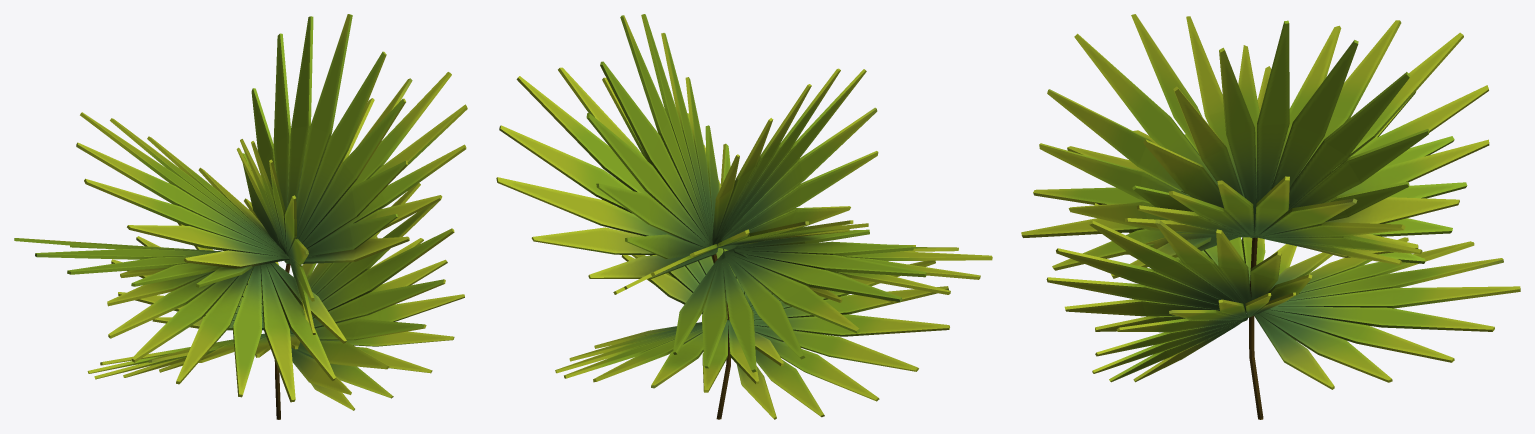
File: UmbrellaPlant.fbx
The picture shows the model from 3 angles, left to right: view 1: azimuth 30°, elevation 25°; view 2: azimuth 150°, elevation 25°; view 3: azimuth 270°, elevation 25°; orthographic projection. The views are drawn at different scales.
Visible parts, largest first — view 1: UmbrellaPalmTree; view 2: UmbrellaPalmTree; view 3: UmbrellaPalmTree.
Boxes of the visible parts, x1,y1,x2,y2 form: UmbrellaPalmTree: [14, 14, 467, 419]; UmbrellaPalmTree: [496, 14, 992, 419]; UmbrellaPalmTree: [1021, 14, 1520, 419].
Size of the model in its own units: 824 by 755 by 768.
Materials: 1 (1 with a texture image).
